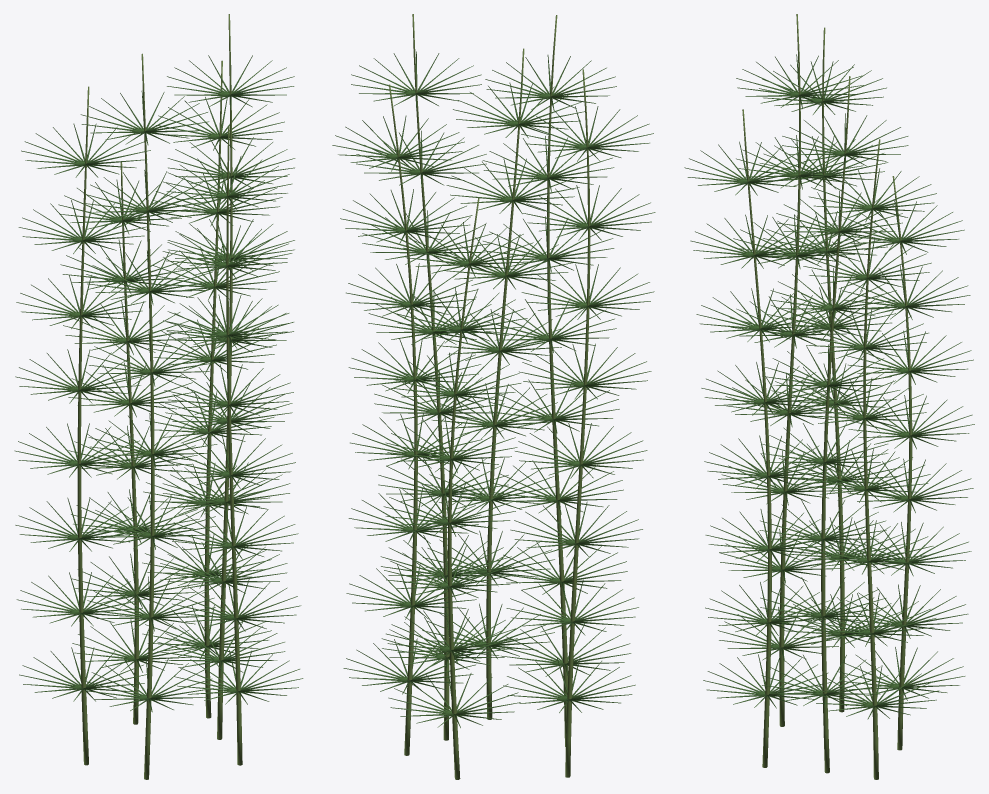
The model's file is hornwort-mobile.glb.
3 views of the same model, side by side, from view 1: azimuth 30°, elevation 25°; view 2: azimuth 150°, elevation 25°; view 3: azimuth 270°, elevation 25° (orthographic). The views are drawn at different scales.
Parts seen in each view (by area): view 1: dissected-leaf-ray, branching-stem; view 2: dissected-leaf-ray, branching-stem; view 3: dissected-leaf-ray, branching-stem.
Boxes of the visible parts, x1,y1,x2,y2 form: dissected-leaf-ray: (14, 55, 303, 712); branching-stem: (77, 14, 242, 779); dissected-leaf-ray: (332, 51, 655, 727); branching-stem: (389, 14, 590, 779); dissected-leaf-ray: (684, 54, 974, 719); branching-stem: (742, 14, 912, 779).
Size of the model in its own units: 0.4136 by 1.04 by 0.384.
